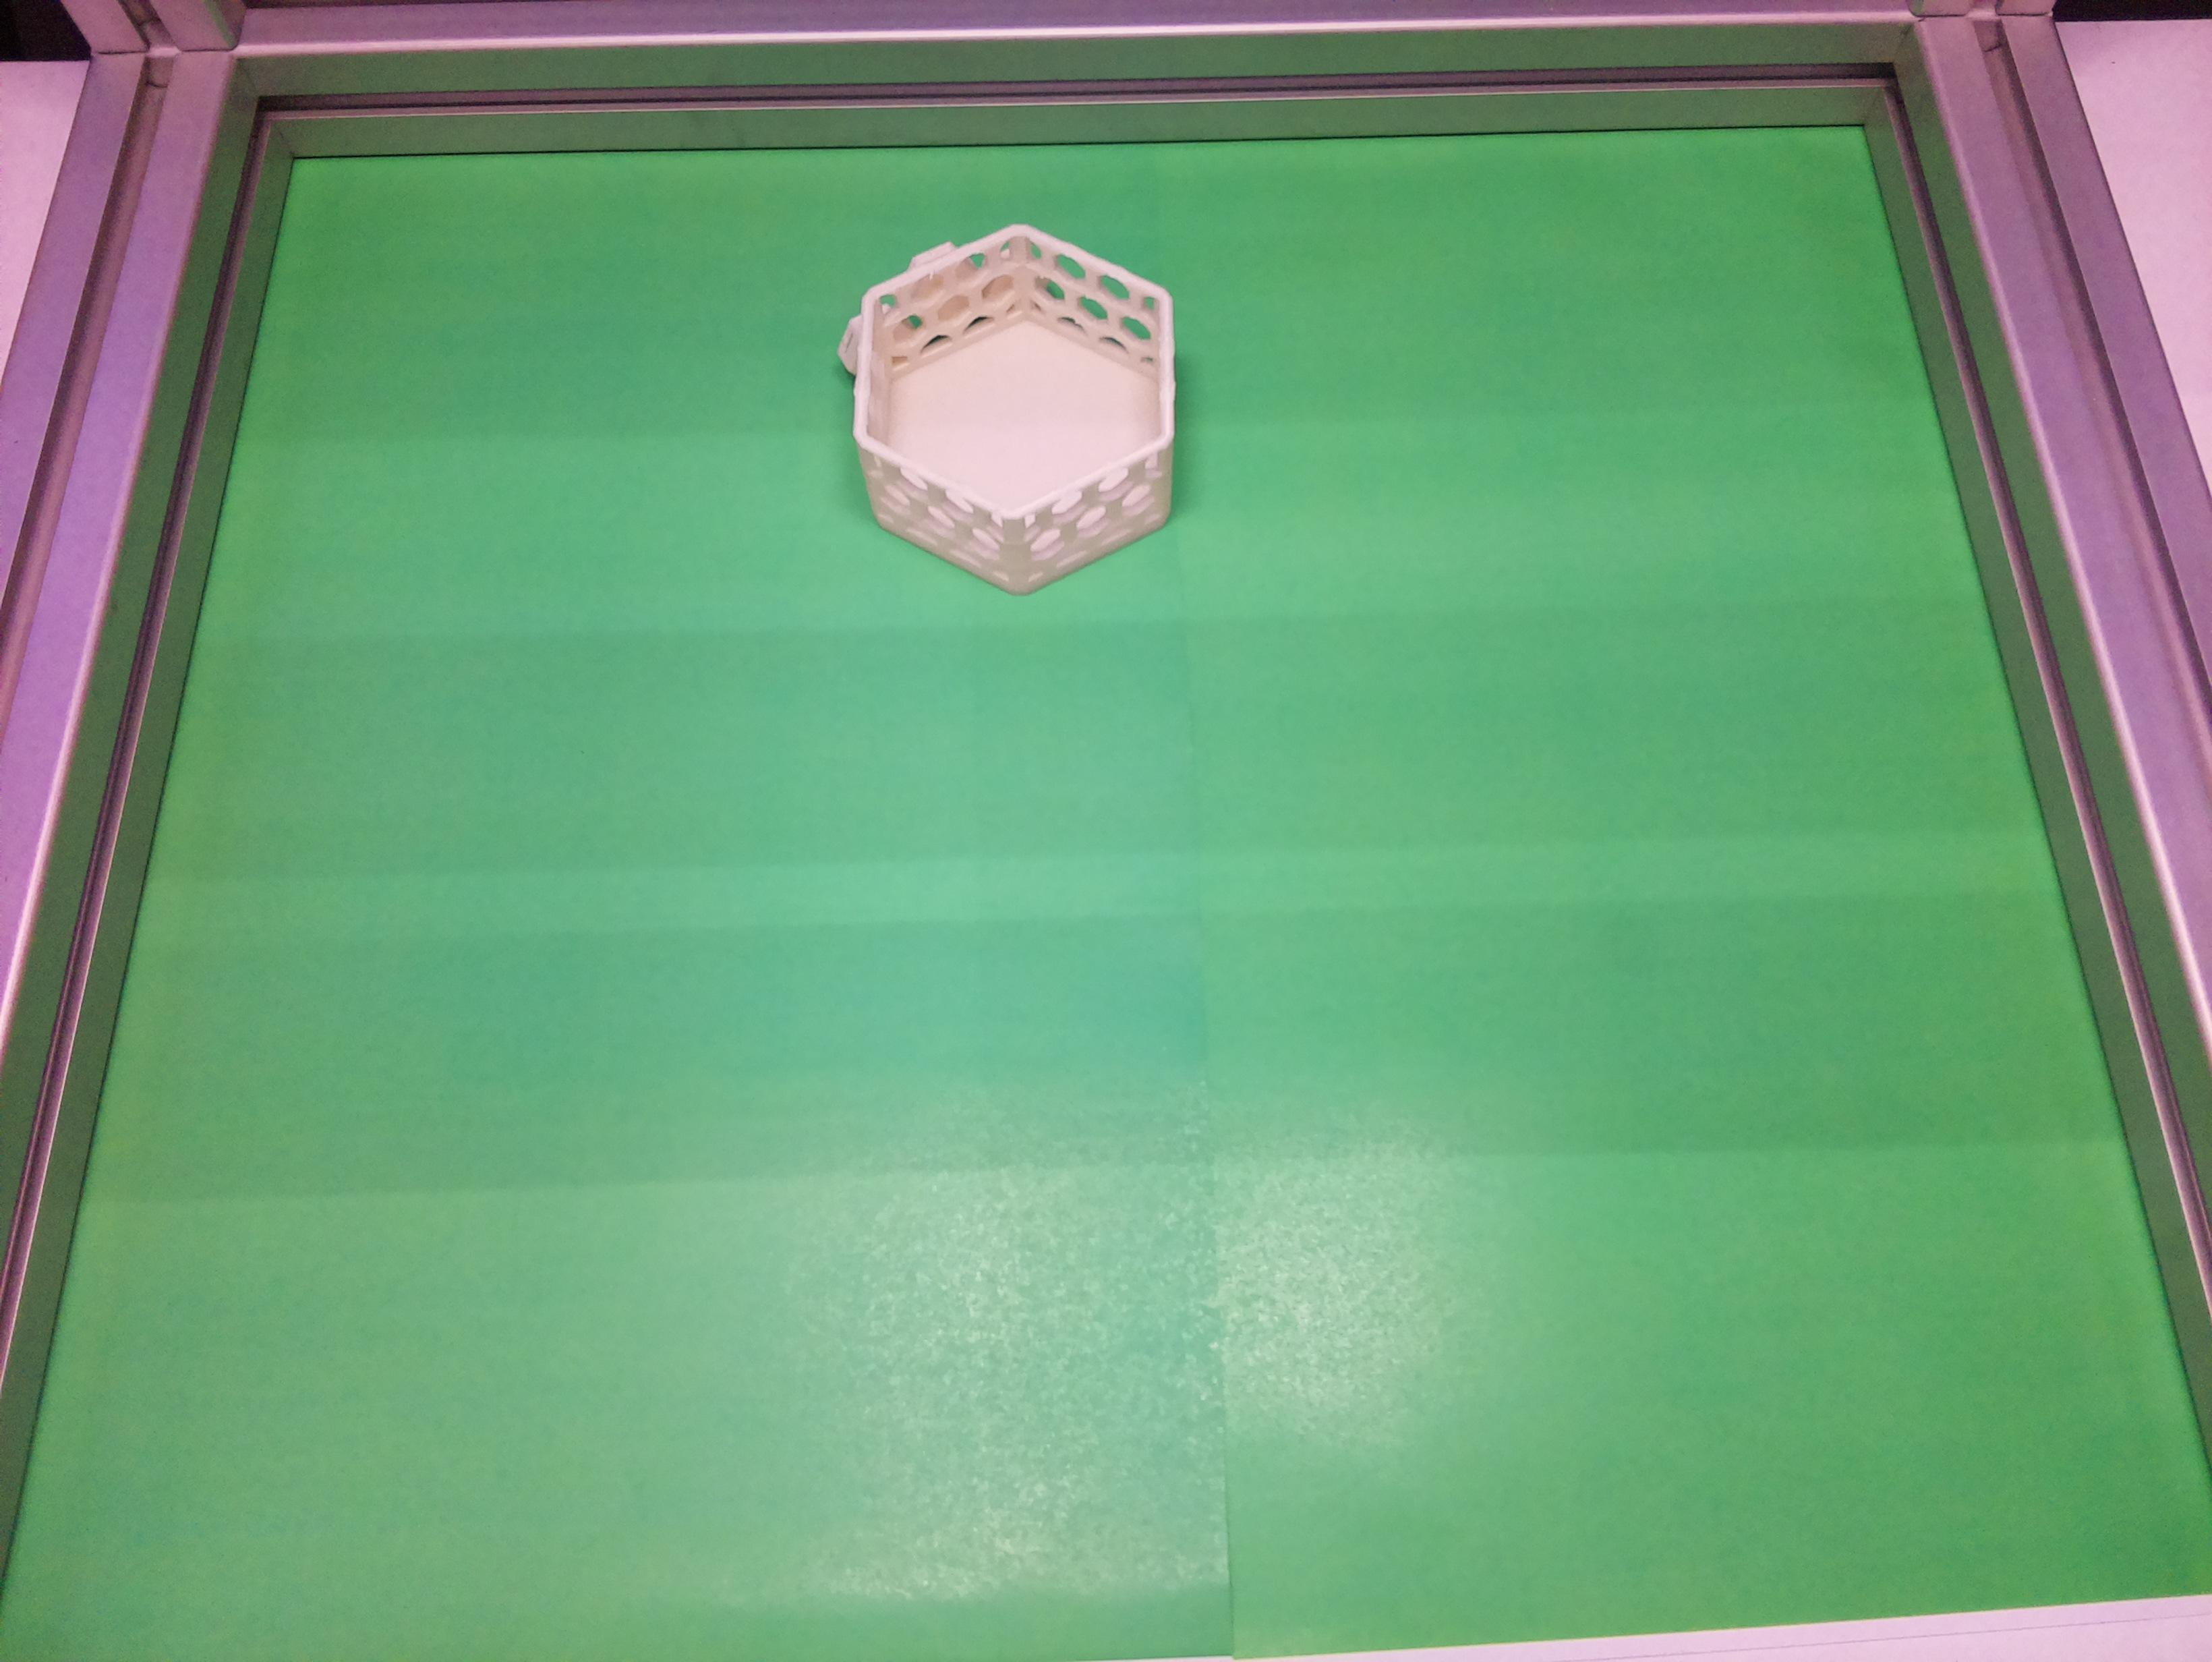bottle_holder: (836, 220, 1182, 601)
